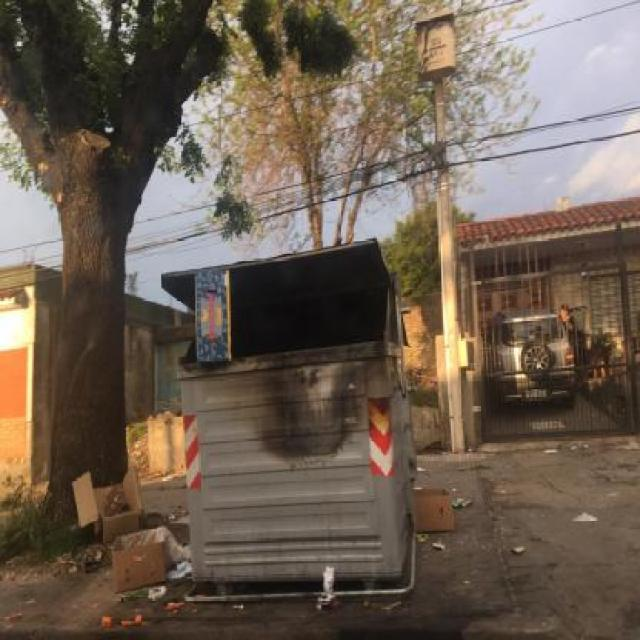garbage: (48, 460, 171, 606), (412, 451, 450, 561), (152, 400, 183, 502)
